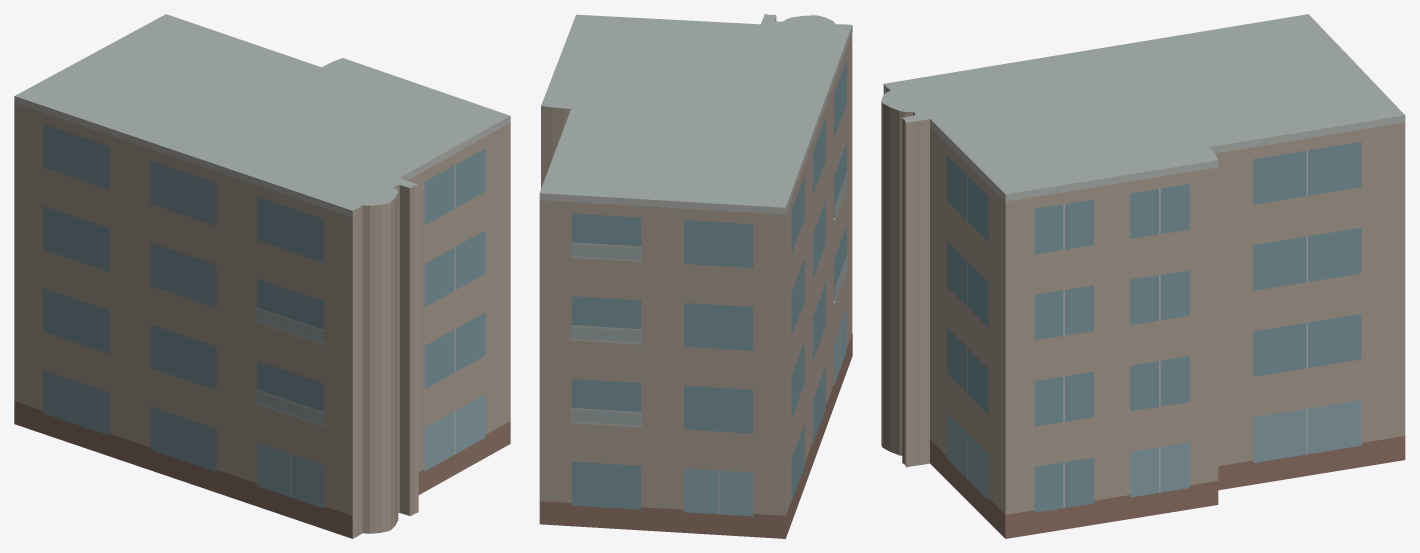
The model's file is survey-upis-32945698.glb.
3 renders of one model, left to right at view 1: azimuth 30°, elevation 25°; view 2: azimuth 150°, elevation 25°; view 3: azimuth 270°, elevation 25°, orthographic. The views are drawn at different scales.
Visible parts, largest first — view 1: survey-upis-32945698.tmp; view 2: survey-upis-32945698.tmp; view 3: survey-upis-32945698.tmp.
Part boxes in pixels (x1,y1,x2,y2): survey-upis-32945698.tmp: (14, 14, 510, 538); survey-upis-32945698.tmp: (539, 14, 852, 538); survey-upis-32945698.tmp: (881, 14, 1405, 538).
Bounding box in the file's own units: 13.14 × 11.7 × 16.13.
